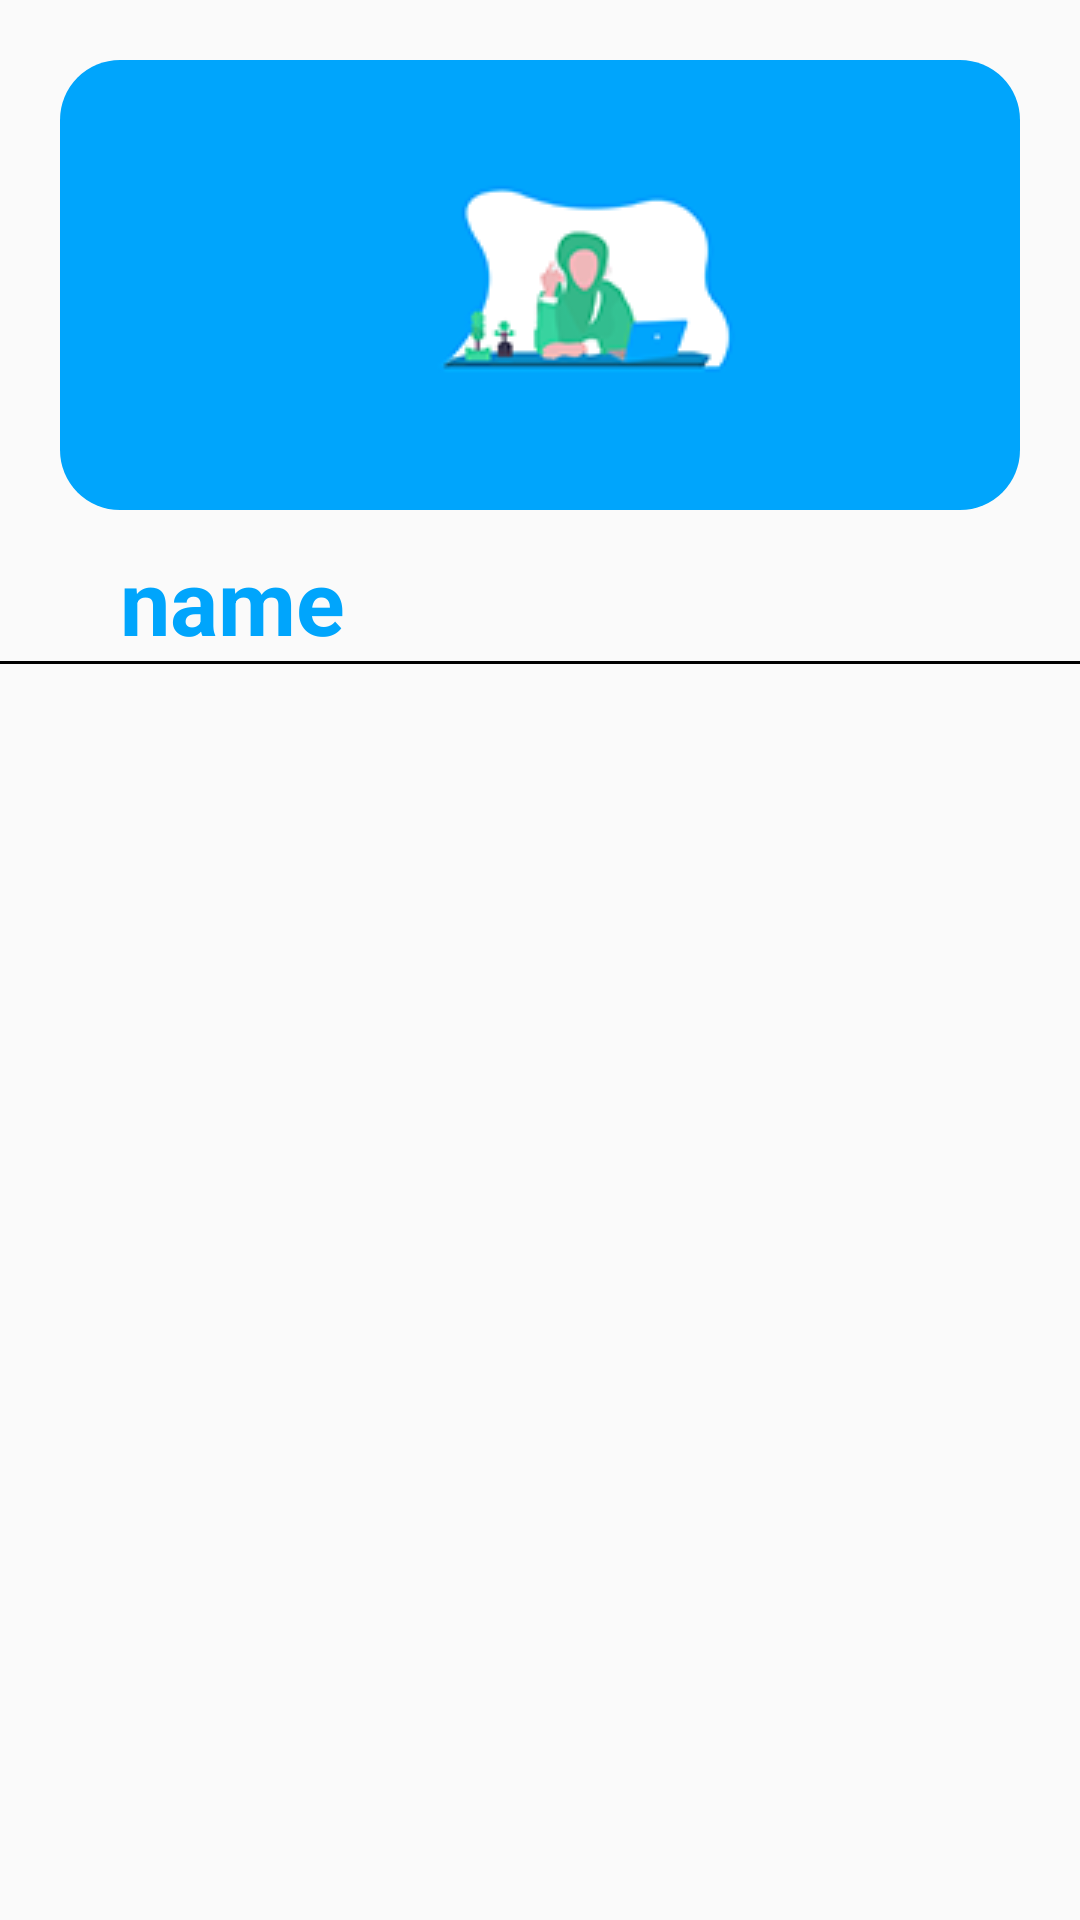

Icon bounding boxes for this 1080*1920 phone screenshot, format (x1, y1, x2, y2):
myteacher: (443, 188, 730, 370)
